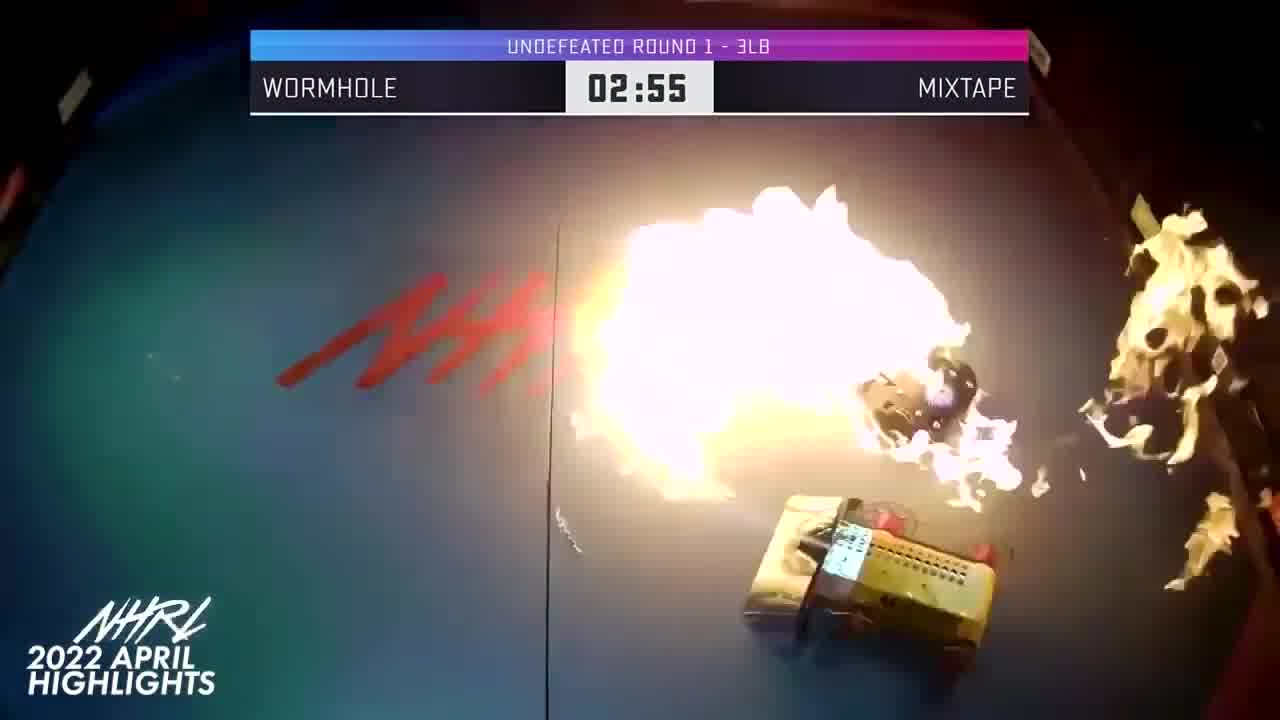combatbot: (742, 495, 996, 688), (856, 357, 980, 449)
